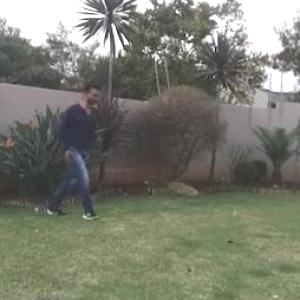follow: (56, 80, 95, 220)
